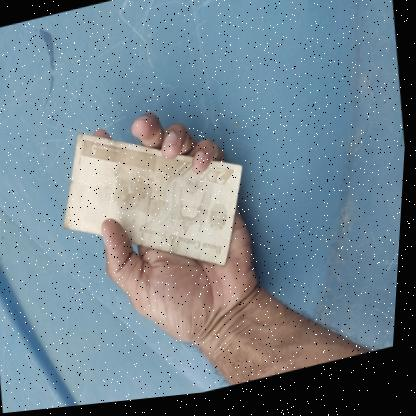five-back-vef: (49, 98, 260, 306)
